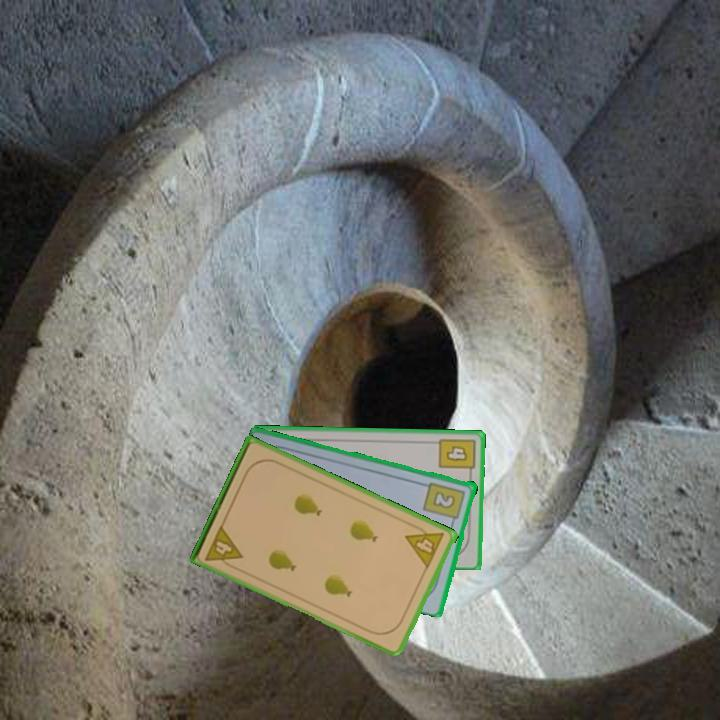2b: (420, 478, 468, 527)
4b: (435, 434, 478, 479)
4p: (402, 520, 447, 571), (201, 521, 246, 572)
